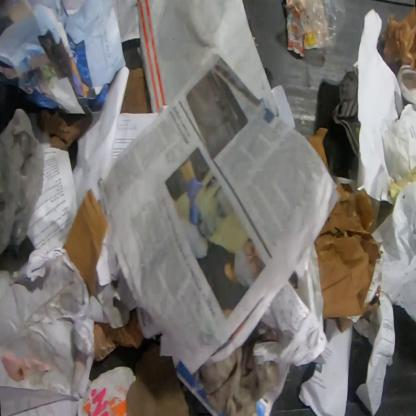cardboard: (136, 0, 272, 113), (62, 188, 109, 298), (38, 97, 93, 153), (76, 365, 137, 415), (94, 308, 145, 363), (120, 66, 152, 115), (306, 126, 330, 175), (360, 295, 380, 321), (334, 318, 353, 334)
rigid_plastic: (396, 65, 415, 106)
soft_plastic: (0, 106, 51, 260), (288, 0, 347, 62), (379, 4, 416, 71)
